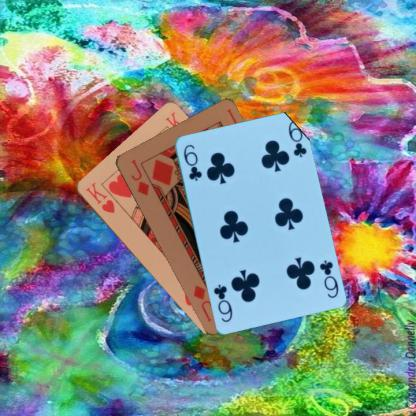6c: (316, 257, 340, 299), (180, 142, 204, 182)
Jd: (128, 157, 150, 197)
Kh: (82, 179, 116, 215)
